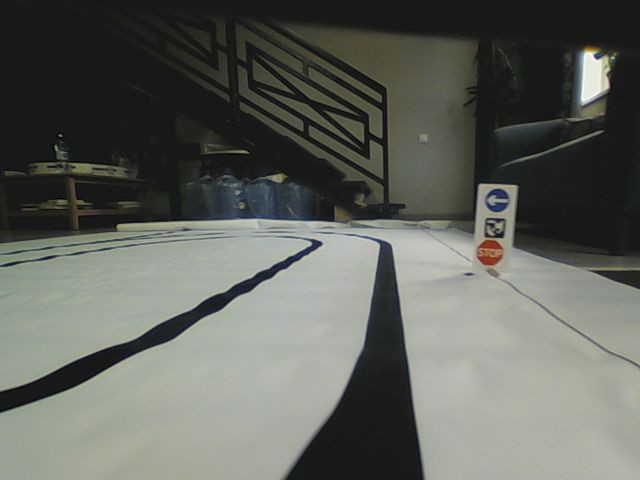Stop: (476, 239, 504, 266)
